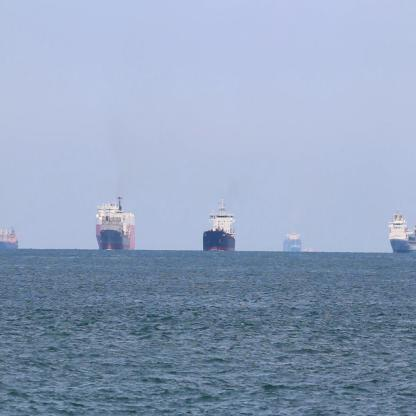Container Ship: (94, 192, 136, 254), (201, 194, 235, 253), (386, 210, 416, 255), (281, 231, 302, 254), (0, 226, 18, 252), (300, 244, 313, 256)
